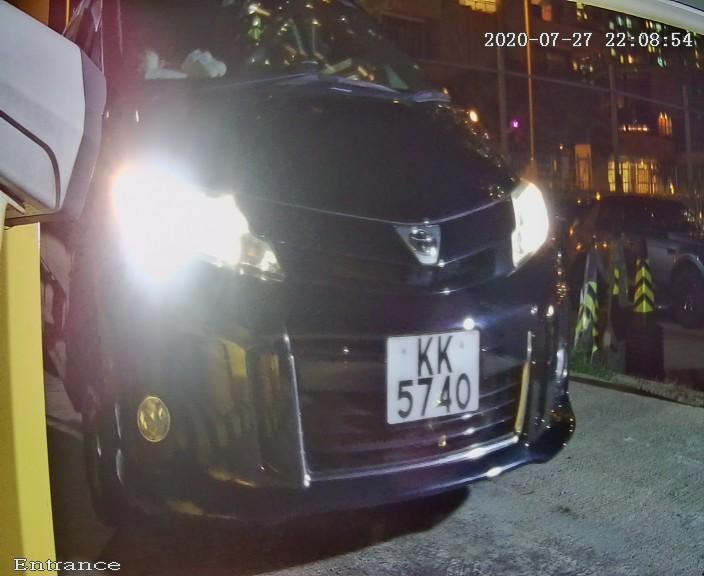privatecar: (69, 8, 612, 520)
